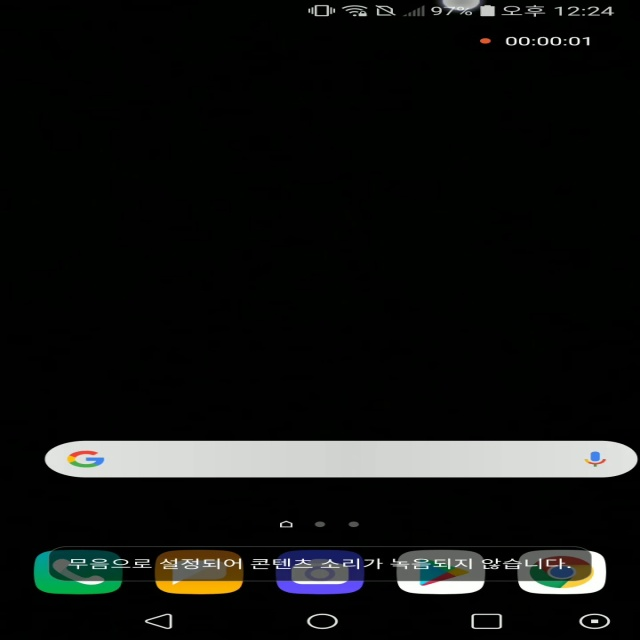Cursor: (440, 1, 482, 15)
